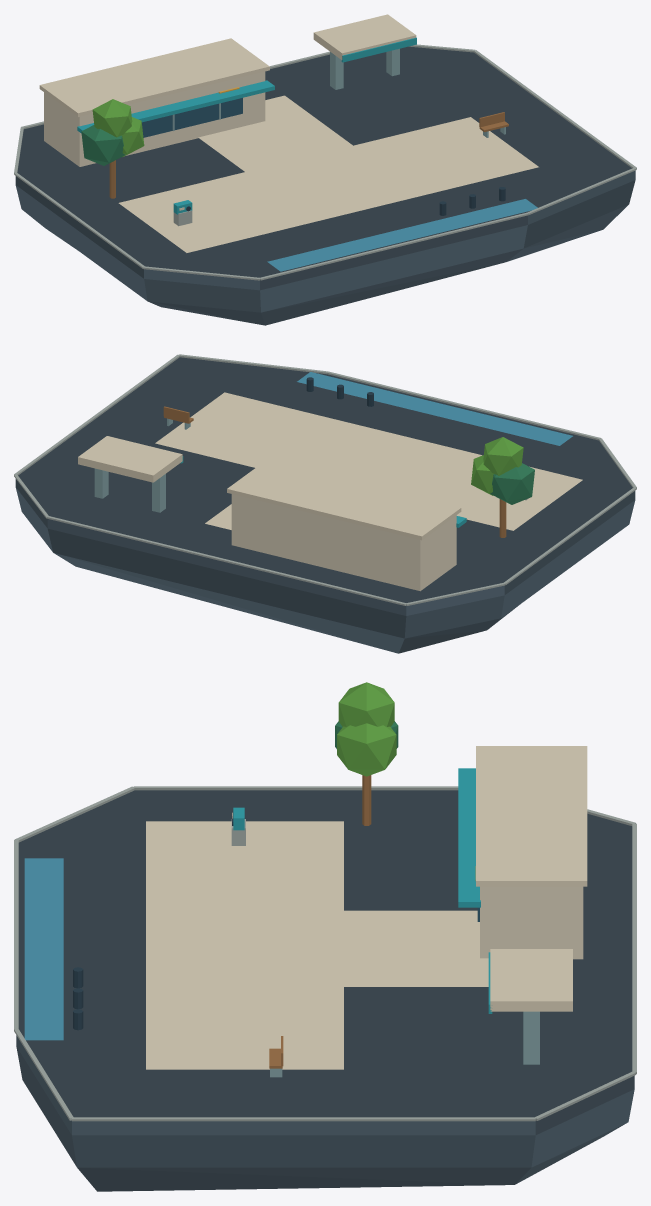
Rendered from fi11-ferry-point.glb.
3 views of the same model, one above another, from view 1: azimuth 30°, elevation 25°; view 2: azimuth 150°, elevation 25°; view 3: azimuth 270°, elevation 25° (orthographic). The views are drawn at different scales.
Parts seen in each view (by area): view 1: GEO_foundation, GEO_forecourt, LAND_0_ferry, GEO_rim, LAND_1_canopy, GEO_water, LAND_2_tree, PROP_bench, PROP_radio; view 2: GEO_foundation, GEO_forecourt, LAND_0_ferry, GEO_rim, LAND_1_canopy, GEO_water, LAND_2_tree; view 3: GEO_foundation, GEO_forecourt, LAND_0_ferry, GEO_rim, GEO_water, LAND_1_canopy, LAND_2_tree.
Part boxes in pixels (box(x1,y1,x2,y2)): GEO_foundation: box(15, 46, 635, 325); GEO_forecourt: box(118, 95, 538, 252); LAND_0_ferry: box(39, 38, 274, 166); GEO_rim: box(14, 44, 636, 280); LAND_1_canopy: box(313, 14, 416, 89); GEO_water: box(267, 199, 537, 271); LAND_2_tree: box(81, 99, 144, 198); PROP_bench: box(479, 112, 508, 137); PROP_radio: box(173, 200, 192, 226); GEO_foundation: box(15, 357, 635, 653); GEO_forecourt: box(155, 392, 582, 530); LAND_0_ferry: box(227, 460, 466, 591); GEO_rim: box(14, 354, 636, 605); LAND_1_canopy: box(78, 436, 183, 512); GEO_water: box(297, 372, 572, 445); LAND_2_tree: box(471, 437, 534, 537); GEO_foundation: box(16, 790, 634, 1191); GEO_forecourt: box(146, 821, 488, 1069); LAND_0_ferry: box(458, 746, 587, 959); GEO_rim: box(14, 786, 636, 1121); GEO_water: box(24, 858, 63, 1040); LAND_1_canopy: box(488, 949, 572, 1064); LAND_2_tree: box(335, 682, 398, 825).
Size of the model in its own units: 38.22 by 12.3 by 30.22.
